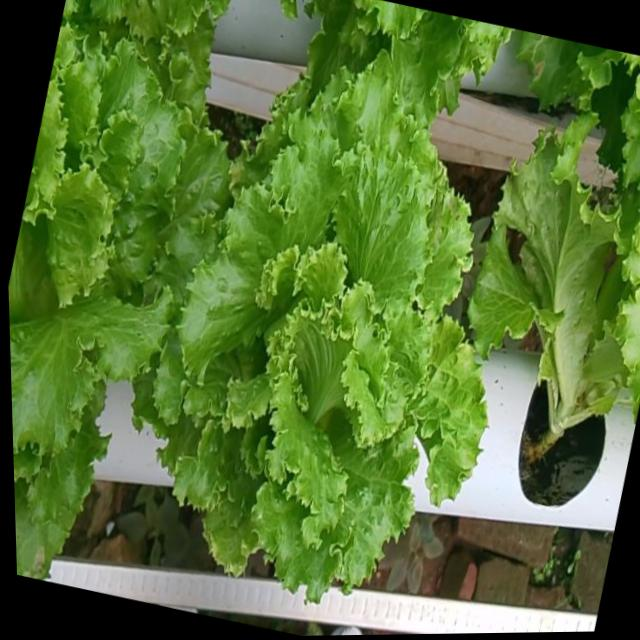Mature: (153, 77, 490, 618), (8, 49, 232, 478)
